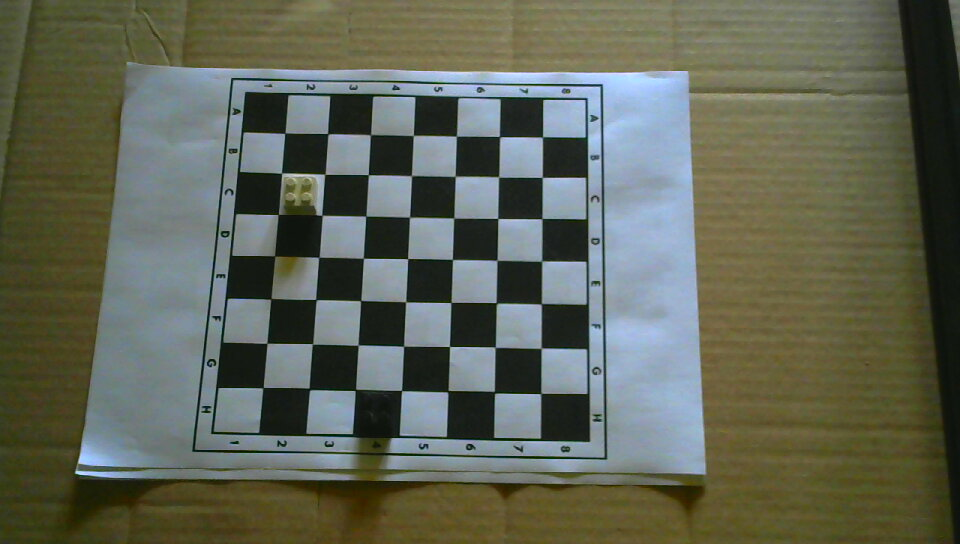bp: (357, 390, 398, 437)
wp: (281, 174, 319, 214)
